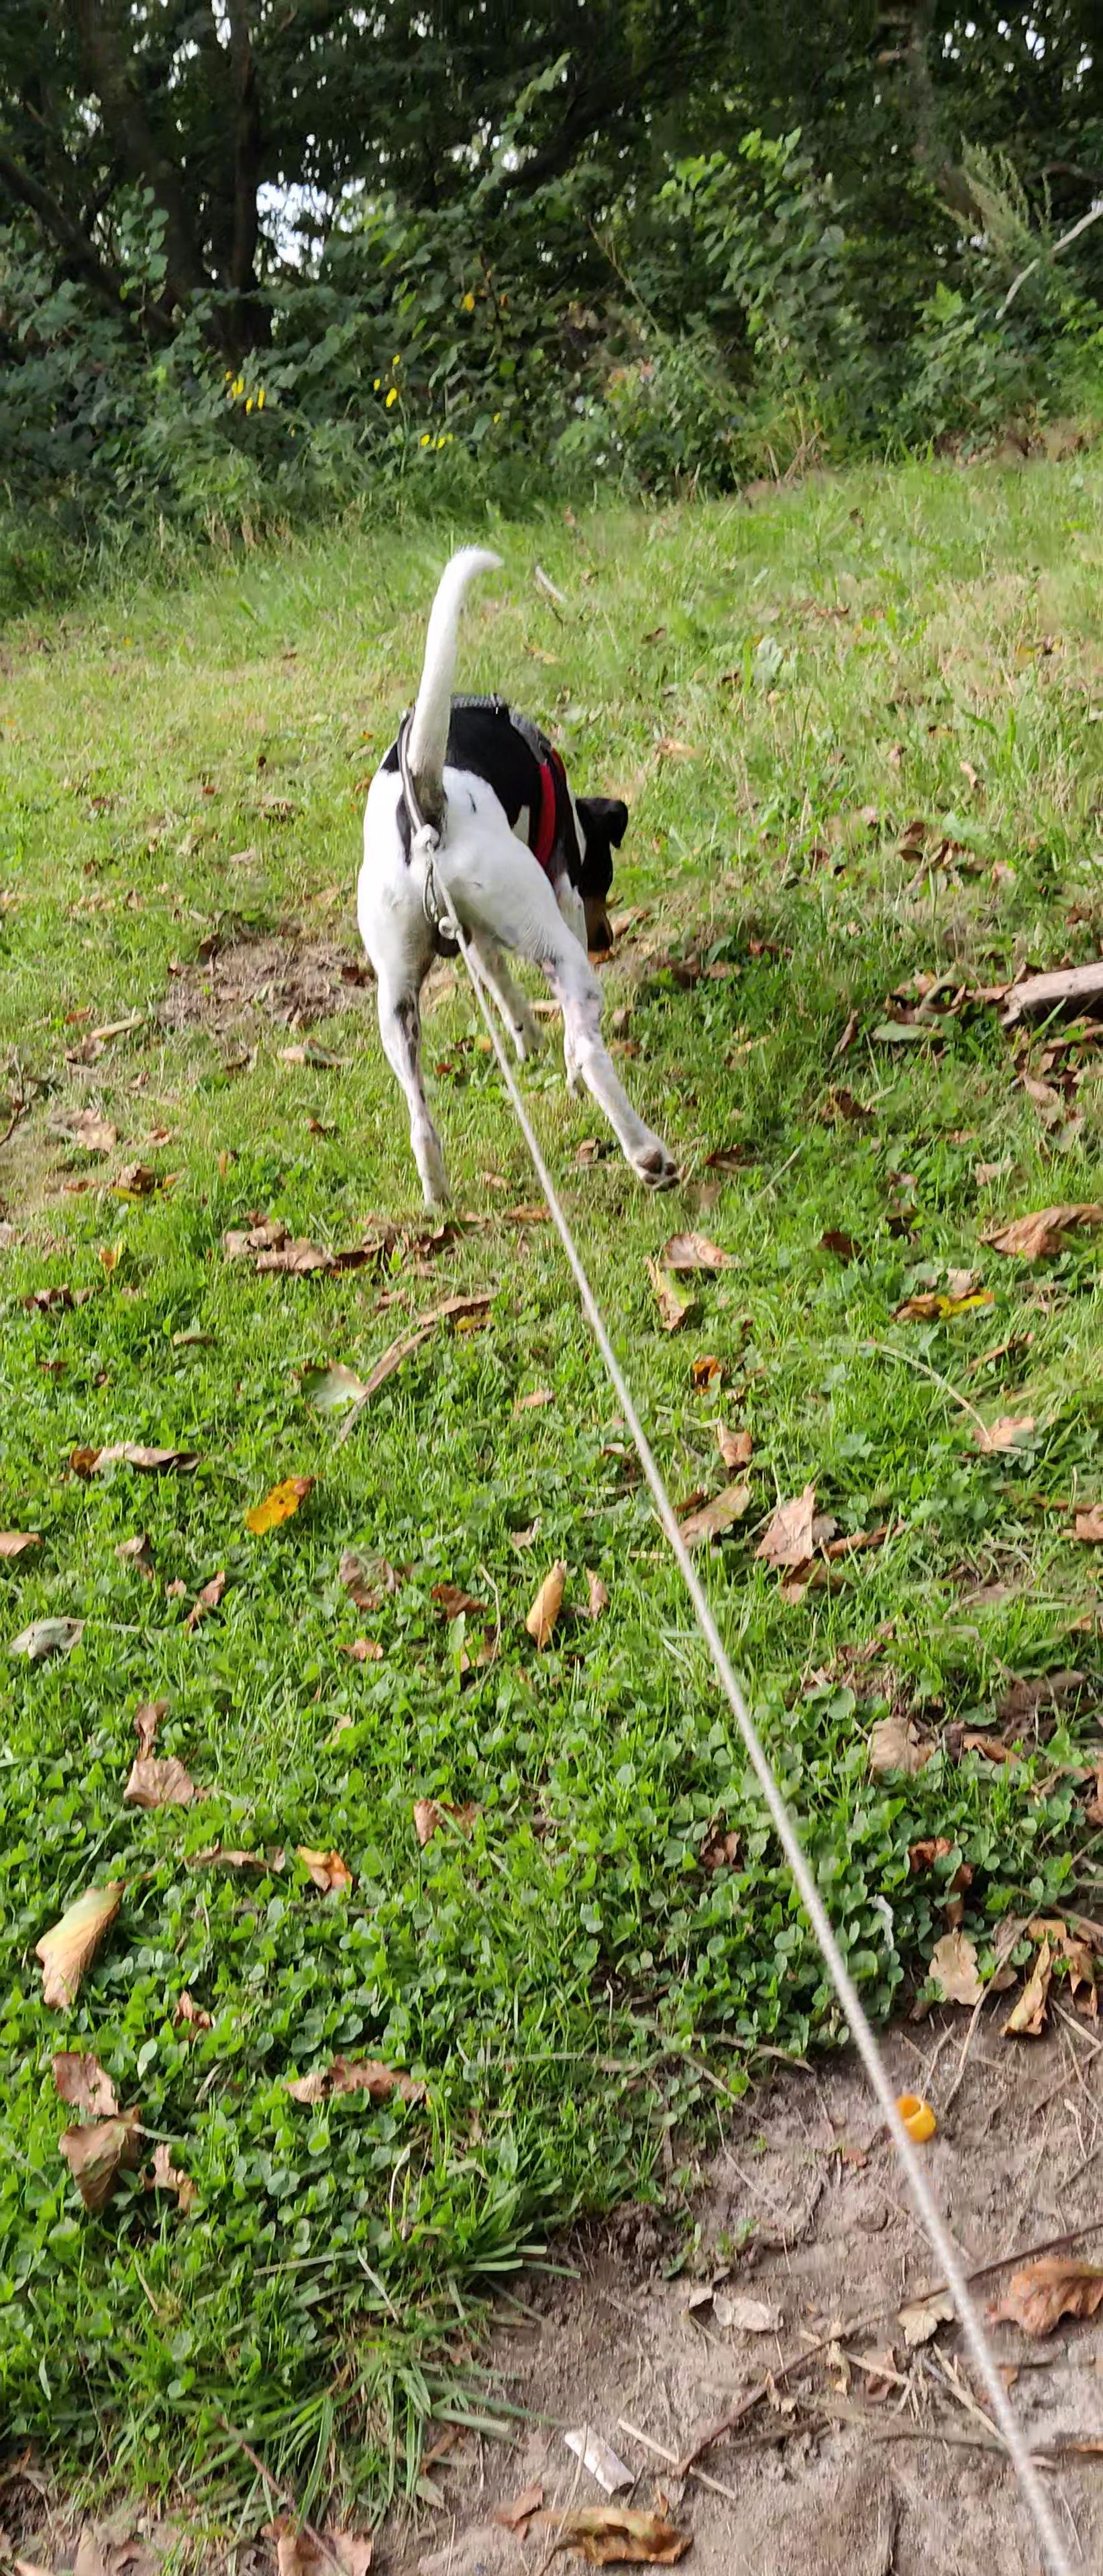Dog: (293, 534, 722, 1219)
